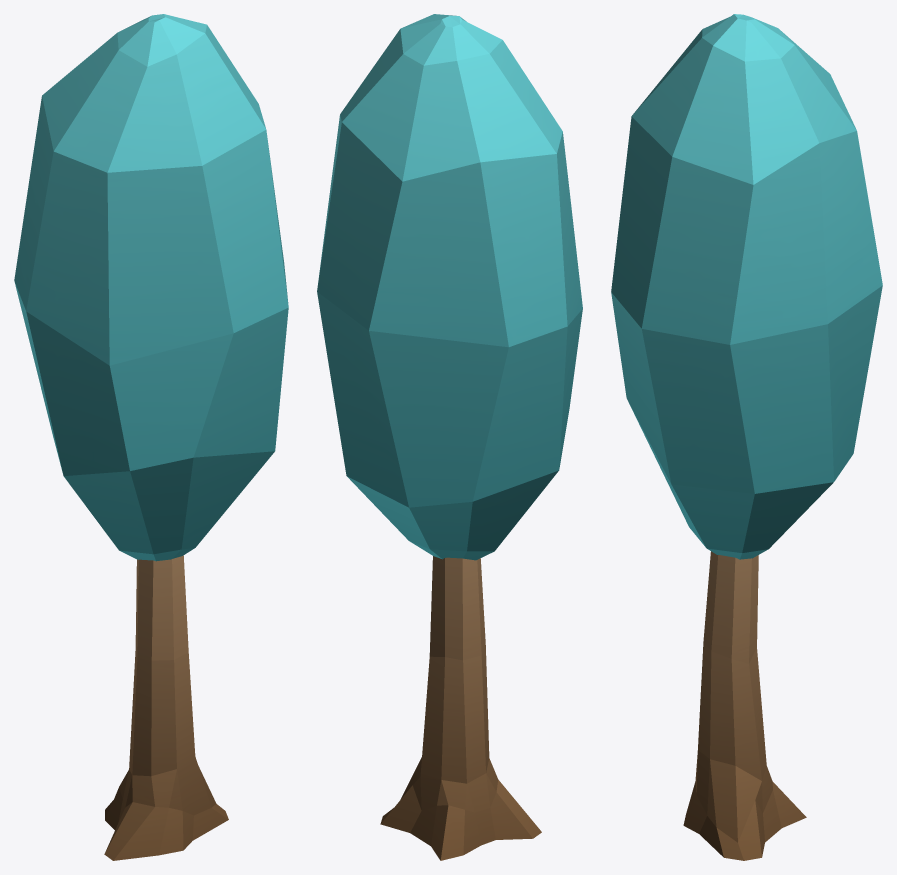
File: tree_poplar_blue.fbx
The picture shows the model from 3 angles, left to right: view 1: azimuth 30°, elevation 25°; view 2: azimuth 150°, elevation 25°; view 3: azimuth 270°, elevation 25°; orthographic projection.
Parts seen in each view (by area): view 1: tree_poplar_blue; view 2: tree_poplar_blue; view 3: tree_poplar_blue.
Part boxes in pixels (box(x1,y1,x2,y2)): tree_poplar_blue: box(14, 14, 288, 860); tree_poplar_blue: box(317, 14, 582, 860); tree_poplar_blue: box(611, 14, 882, 860).
Size of the model in its own units: 2.95 by 9.4 by 2.85.
Materials: 1 (1 with a texture image).
